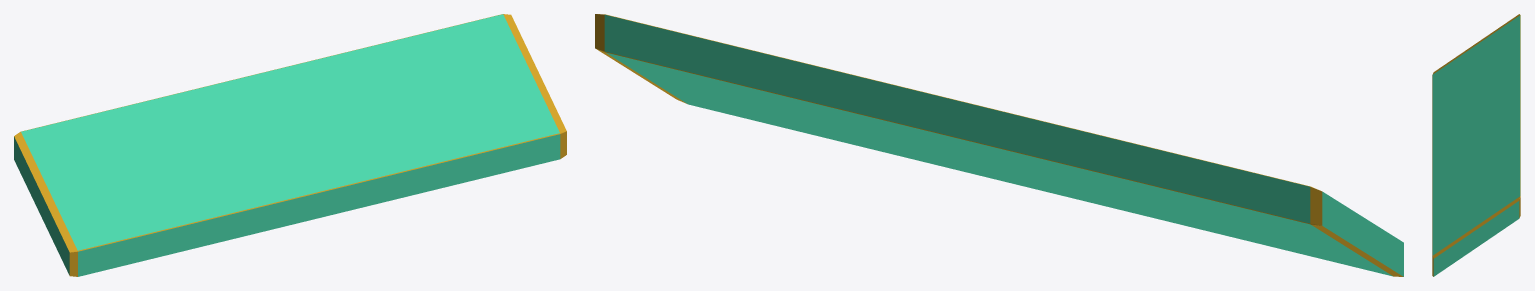
File: stairs01.fbx
3 views of the same model, side by side, from view 1: azimuth 30°, elevation 25°; view 2: azimuth 150°, elevation 25°; view 3: azimuth 270°, elevation 25° (orthographic). The views are drawn at different scales.
Parts seen in each view (by area): view 1: Cube.001; view 2: Cube.001; view 3: Cube.001.
Boxes of the visible parts, left/top/right/bottom form: Cube.001: left=14, top=14, right=566, bottom=276; Cube.001: left=595, top=14, right=1403, bottom=276; Cube.001: left=1432, top=14, right=1520, bottom=276.
Size of the model in its own units: 1000 by 199 by 200.
